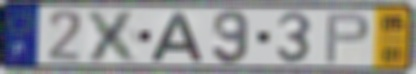2: (45, 8, 84, 63)
3: (274, 10, 316, 66)
9: (211, 8, 252, 67)
A: (147, 10, 205, 63)
P: (323, 11, 373, 65)
X: (84, 8, 142, 64)
